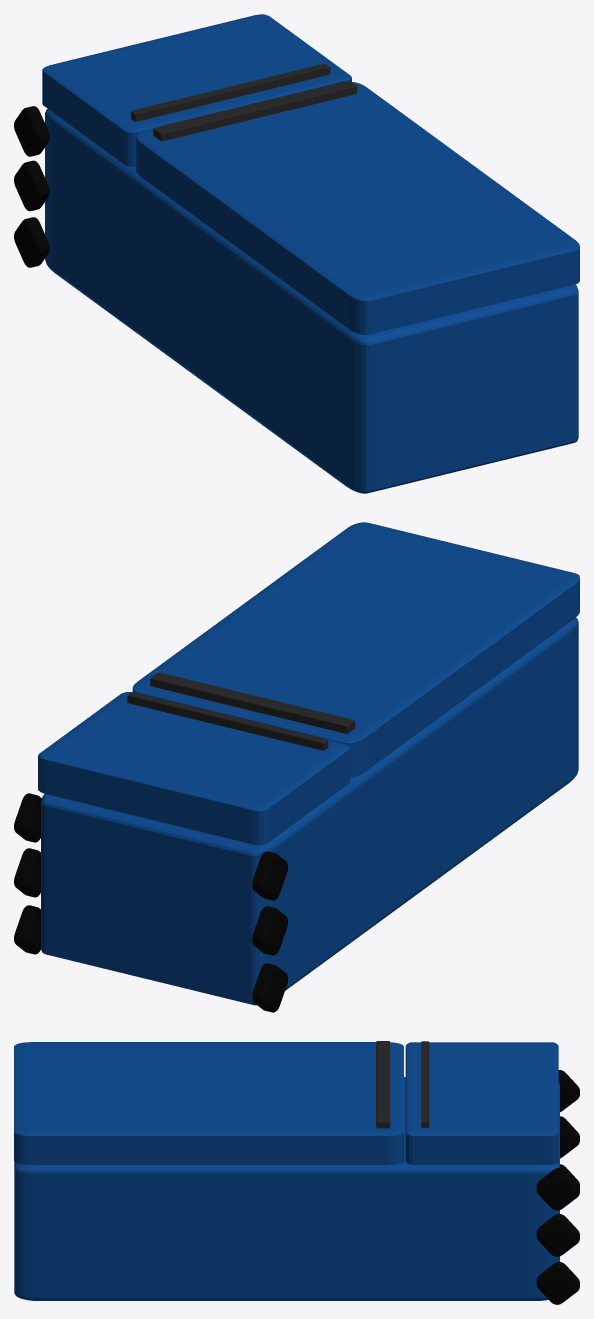
The model's file is mid_fridge.glb.
The picture shows the model from 3 angles, top to bottom: view 1: azimuth 30°, elevation 25°; view 2: azimuth 150°, elevation 25°; view 3: azimuth 270°, elevation 25°; orthographic projection. The views are drawn at different scales.
Visible parts, largest first — view 1: Cube.004, Cube.005, Cube.017, Cube.022, Cube.024, Cube.039, Cube.040, Cube.038; view 2: Cube.004, Cube.005, Cube.017, Cube.022, Cube.024, Cube.040, Cube.039, Cube.038, Cube.041, Cube.042, Cube.043; view 3: Cube.004, Cube.005, Cube.017, Cube.022, Cube.042, Cube.043, Cube.041, Cube.024, Cube.040, Cube.039.
Part boxes in pixels (left/top/right/bottom): Cube.004: left=45, top=109, right=578, bottom=493; Cube.005: left=136, top=81, right=579, bottom=334; Cube.017: left=42, top=14, right=351, bottom=166; Cube.022: left=153, top=80, right=356, bottom=141; Cube.024: left=131, top=64, right=330, bottom=121; Cube.039: left=14, top=160, right=49, bottom=211; Cube.040: left=14, top=106, right=49, bottom=156; Cube.038: left=14, top=217, right=49, bottom=267; Cube.004: left=41, top=618, right=578, bottom=1005; Cube.005: left=132, top=522, right=579, bottom=777; Cube.017: left=38, top=692, right=349, bottom=845; Cube.022: left=150, top=673, right=355, bottom=733; Cube.024: left=127, top=692, right=328, bottom=750; Cube.040: left=252, top=851, right=287, bottom=900; Cube.039: left=252, top=906, right=287, bottom=955; Cube.038: left=252, top=963, right=287, bottom=1012; Cube.041: left=14, top=793, right=41, bottom=842; Cube.042: left=14, top=848, right=40, bottom=897; Cube.043: left=14, top=905, right=40, bottom=954; Cube.004: left=14, top=1077, right=559, bottom=1300; Cube.005: left=14, top=1042, right=403, bottom=1164; Cube.017: left=405, top=1042, right=558, bottom=1164; Cube.022: left=376, top=1041, right=390, bottom=1128; Cube.042: left=536, top=1214, right=579, bottom=1256; Cube.043: left=536, top=1262, right=579, bottom=1304; Cube.041: left=536, top=1167, right=579, bottom=1210; Cube.024: left=421, top=1041, right=429, bottom=1127; Cube.040: left=558, top=1070, right=579, bottom=1111; Cube.039: left=560, top=1116, right=579, bottom=1158.
Size of the model in its own units: 2.25 by 1.78 by 5.19.
